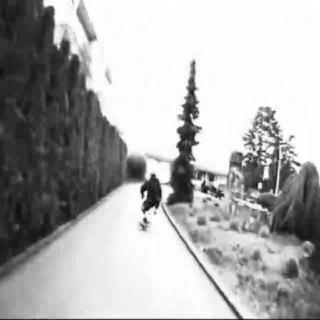other: (193, 195, 227, 258), (125, 207, 163, 239)
